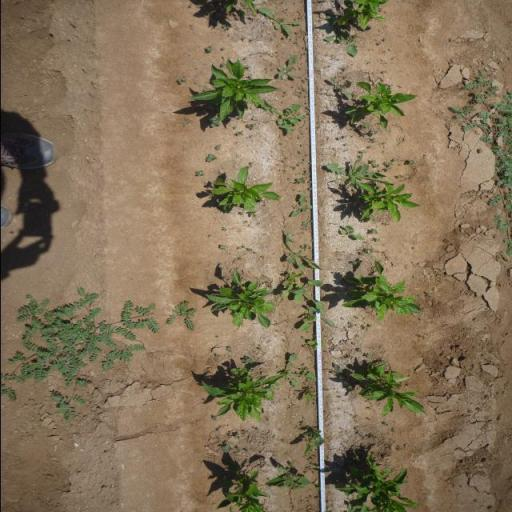plant: (331, 453, 425, 512), (189, 58, 277, 121), (336, 260, 422, 322), (204, 266, 278, 331), (200, 366, 279, 424), (349, 365, 429, 418), (343, 79, 420, 132), (206, 167, 283, 214), (209, 462, 279, 512), (352, 182, 423, 222), (339, 0, 390, 30)
weed: (0, 285, 200, 423), (445, 64, 512, 257), (323, 157, 389, 191), (278, 232, 325, 271), (317, 13, 356, 58), (278, 279, 326, 315), (260, 98, 306, 134), (256, 4, 302, 37), (284, 354, 316, 388), (302, 428, 325, 457), (276, 466, 311, 485), (288, 192, 312, 219), (275, 55, 299, 80), (328, 77, 353, 99), (296, 307, 316, 331), (338, 226, 364, 240), (302, 386, 318, 406), (282, 272, 302, 286), (278, 481, 305, 490), (329, 364, 344, 380), (347, 455, 361, 469), (241, 356, 256, 369), (342, 503, 361, 512), (219, 442, 232, 454), (358, 246, 372, 256), (306, 339, 317, 351), (374, 357, 388, 366), (180, 118, 192, 128), (208, 118, 220, 128), (368, 159, 380, 169), (206, 153, 216, 164), (382, 161, 392, 172), (176, 76, 188, 84), (194, 170, 205, 178), (424, 292, 435, 300), (206, 110, 215, 119), (302, 218, 312, 226), (361, 218, 374, 224), (368, 435, 377, 443), (300, 244, 310, 251), (245, 124, 256, 130), (304, 104, 310, 115), (220, 24, 231, 30), (359, 122, 370, 128), (336, 135, 347, 141), (367, 229, 378, 235), (305, 466, 313, 474), (232, 432, 240, 440), (295, 177, 303, 185), (246, 162, 254, 170), (239, 429, 248, 436), (291, 164, 301, 170), (214, 144, 221, 152), (302, 170, 309, 178), (364, 353, 372, 360), (240, 9, 247, 17), (204, 46, 213, 52), (352, 259, 362, 264), (362, 446, 369, 453), (225, 346, 232, 353), (351, 33, 358, 40), (218, 244, 226, 250), (249, 211, 257, 217), (234, 130, 242, 136), (242, 64, 250, 70), (369, 130, 377, 136), (369, 138, 377, 144), (416, 334, 424, 340), (300, 421, 306, 428), (246, 73, 252, 80), (361, 325, 367, 332), (314, 484, 320, 491), (282, 90, 288, 97), (221, 226, 227, 232), (220, 62, 226, 68), (357, 150, 366, 154), (252, 426, 258, 432), (373, 237, 380, 242), (212, 353, 218, 358), (356, 348, 362, 353), (381, 422, 388, 426), (235, 447, 240, 452), (356, 432, 362, 436), (246, 248, 252, 252), (235, 246, 241, 250), (396, 175, 402, 179), (408, 160, 414, 164), (302, 78, 308, 82), (278, 142, 284, 146), (359, 133, 365, 137), (380, 70, 386, 74), (392, 158, 398, 162), (244, 449, 249, 453), (348, 357, 353, 361), (207, 234, 212, 238), (237, 212, 243, 215), (366, 324, 372, 327), (292, 41, 298, 44), (376, 42, 382, 45), (290, 239, 294, 243), (368, 146, 372, 150), (302, 88, 306, 92), (315, 498, 319, 502), (227, 435, 232, 438), (297, 151, 302, 154), (350, 127, 355, 130), (222, 276, 226, 279), (231, 126, 237, 128), (211, 418, 216, 420), (220, 48, 225, 50), (302, 346, 306, 348), (220, 268, 222, 271), (302, 336, 304, 339), (242, 246, 244, 248), (282, 441, 284, 443), (272, 436, 274, 438), (308, 188, 310, 190), (382, 142, 384, 144)
